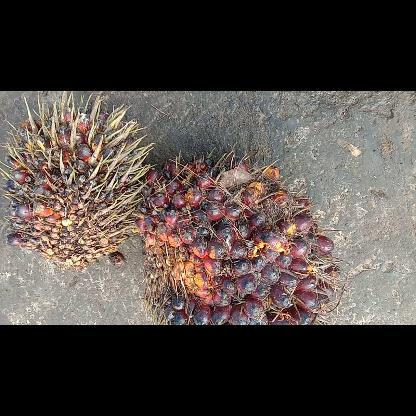Kurang masak: (135, 148, 343, 324)
TBS abnormal: (0, 90, 156, 270)
